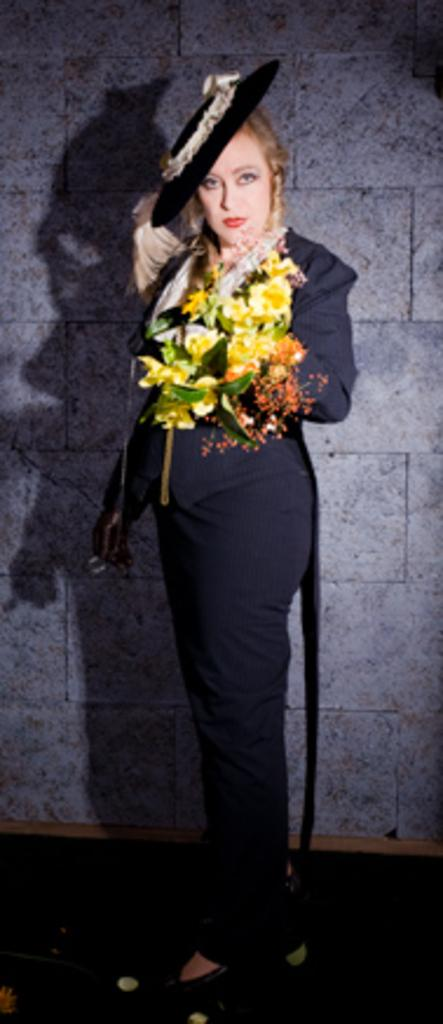Hat: (132, 56, 280, 228)
